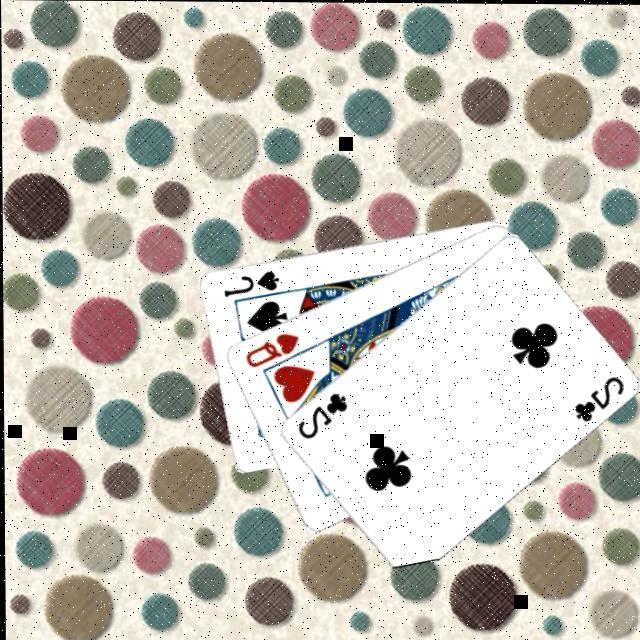2C: (292, 388, 348, 440), (568, 371, 624, 423)
JS: (218, 266, 279, 298)
QH: (239, 329, 299, 369)
